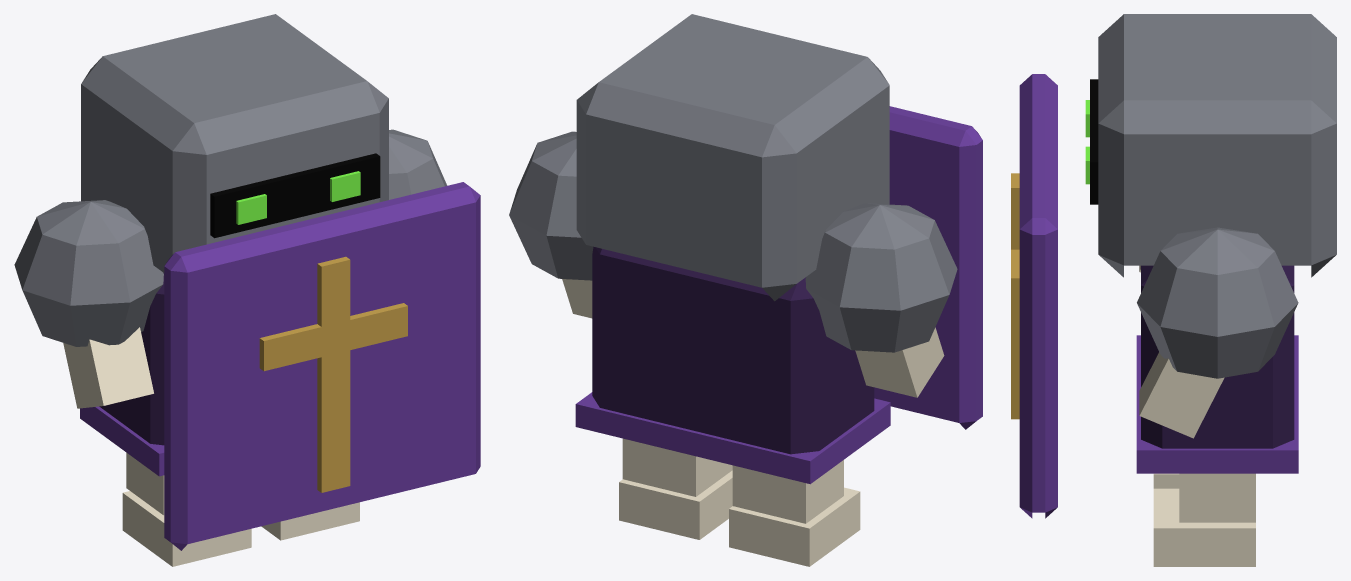
The model's file is brute_r4.glb.
The picture shows the model from 3 angles, left to right: view 1: azimuth 30°, elevation 25°; view 2: azimuth 150°, elevation 25°; view 3: azimuth 270°, elevation 25°; orthographic projection. The views are drawn at different scales.
Parts seen in each view (by area): view 1: brute_r4_mesh; view 2: brute_r4_mesh; view 3: brute_r4_mesh.
Boxes of the visible parts, x1,y1,x2,y2 form: brute_r4_mesh: [14, 14, 480, 566]; brute_r4_mesh: [509, 14, 982, 566]; brute_r4_mesh: [1011, 14, 1336, 566].
Size of the model in its own units: 2.16 by 2.2 by 1.4.
Materials: 1 (1 with a texture image).
